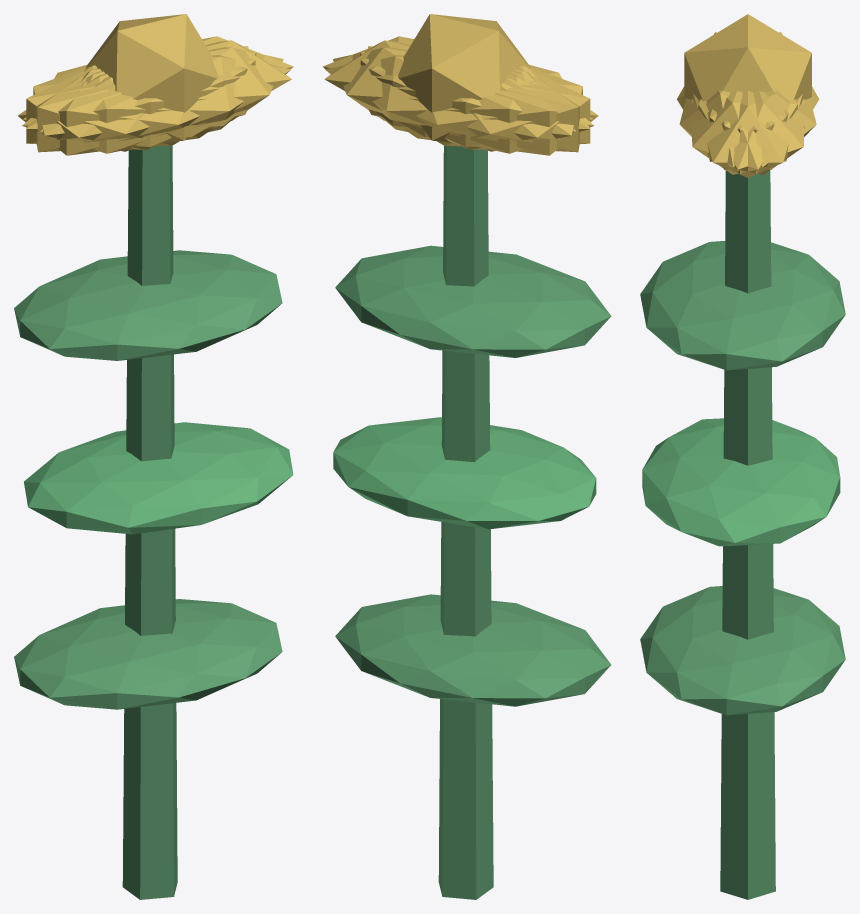
File: sonneratia-alba.glb
The picture shows the model from 3 angles, left to right: view 1: azimuth 30°, elevation 25°; view 2: azimuth 150°, elevation 25°; view 3: azimuth 270°, elevation 25°; orthographic projection.
Parts seen in each view (by area): view 1: stem, leaf1, leaf2, leaf0, center, petal1, petal6, petal2, petal5, petal7, petal0, petal4 (+2 smaller); view 2: stem, leaf2, leaf0, leaf1, center, petal8, petal3, petal7, petal4, petal2, petal0, petal5 (+2 smaller); view 3: stem, leaf2, leaf1, leaf0, center, petal0, petal4, petal5, petal8, petal1.
Boxes of the visible parts, x1,y1,x2,y2 form: stem: (122, 145, 177, 899); leaf1: (24, 422, 293, 534); leaf2: (14, 250, 282, 360); leaf0: (14, 599, 282, 709); center: (85, 14, 218, 142); petal1: (22, 55, 290, 153); petal6: (18, 67, 212, 155); petal2: (36, 46, 248, 152); petal5: (40, 47, 283, 146); petal7: (26, 52, 256, 149); petal0: (85, 40, 291, 137); petal4: (23, 36, 293, 129); stem: (438, 145, 493, 899); leaf2: (335, 245, 611, 357); leaf0: (335, 594, 611, 706); leaf1: (333, 417, 596, 529); center: (398, 14, 530, 142); petal8: (325, 55, 594, 153); petal3: (404, 67, 598, 155); petal7: (368, 46, 579, 152); petal4: (333, 47, 576, 146); petal2: (360, 52, 590, 149); petal0: (324, 40, 530, 137); petal5: (322, 36, 592, 129); stem: (720, 170, 775, 899); leaf2: (640, 241, 845, 370); leaf1: (642, 418, 840, 546); leaf0: (640, 586, 845, 715); center: (684, 14, 811, 101); petal0: (693, 91, 802, 177); petal4: (698, 91, 804, 174); petal5: (691, 91, 797, 174); petal8: (707, 90, 816, 167); petal1: (679, 90, 788, 167).
Bounding box in the file's own units: 0.1452 × 0.4535 × 0.0986.
